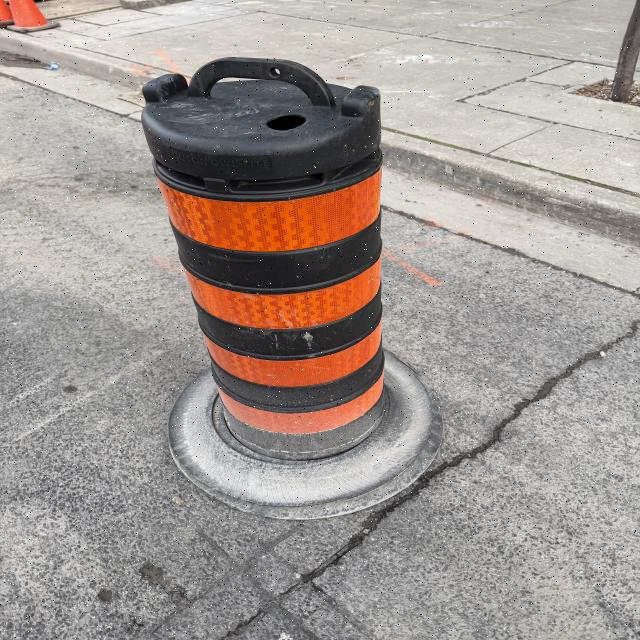Teraffic Barrel: (142, 58, 440, 517), (6, 0, 59, 33), (0, 0, 14, 27)
